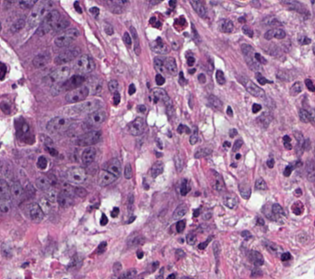nucleus: (237, 76, 265, 98), (53, 74, 85, 93), (54, 28, 79, 47), (241, 44, 259, 70), (44, 65, 70, 83), (54, 47, 80, 64), (71, 99, 102, 113), (46, 116, 73, 132), (65, 85, 88, 103), (76, 130, 101, 146), (73, 55, 94, 72), (85, 109, 105, 126), (66, 166, 86, 183), (127, 117, 145, 135), (26, 202, 43, 221), (35, 175, 56, 190), (32, 51, 50, 67), (86, 76, 102, 94), (152, 37, 169, 53), (153, 88, 169, 105), (130, 27, 140, 54), (81, 146, 96, 164), (98, 170, 116, 185), (57, 189, 72, 207), (106, 158, 120, 177), (212, 171, 224, 191), (264, 28, 285, 39), (207, 95, 222, 110), (248, 250, 263, 265), (163, 57, 176, 74), (238, 180, 250, 198), (223, 193, 237, 208), (173, 204, 187, 219), (127, 234, 144, 246), (299, 109, 313, 123), (255, 72, 271, 84), (151, 161, 163, 177), (271, 203, 283, 219), (154, 57, 166, 72), (294, 131, 303, 151), (45, 187, 57, 202), (39, 197, 50, 213), (264, 242, 280, 253), (194, 147, 211, 157), (198, 236, 211, 249), (120, 268, 136, 278), (69, 255, 81, 268), (174, 154, 183, 171), (180, 179, 189, 195), (290, 82, 301, 95), (40, 134, 53, 145), (36, 156, 47, 169), (73, 186, 86, 197), (292, 201, 303, 214), (254, 52, 266, 63), (216, 70, 225, 84), (282, 135, 291, 149), (255, 178, 266, 189), (123, 32, 131, 47), (232, 139, 242, 151), (124, 163, 132, 178), (307, 161, 313, 180), (189, 130, 197, 144), (186, 233, 196, 244), (305, 79, 314, 91), (108, 80, 117, 92), (45, 146, 57, 155), (176, 220, 185, 232), (97, 241, 106, 253), (213, 241, 219, 259), (155, 74, 164, 85), (283, 165, 292, 176), (252, 103, 261, 112), (175, 249, 184, 258), (302, 139, 310, 149), (280, 252, 290, 260), (113, 262, 121, 272), (179, 72, 185, 85), (113, 91, 119, 104), (100, 214, 107, 225), (128, 194, 133, 209), (241, 230, 250, 238), (187, 55, 194, 65), (198, 73, 205, 83), (128, 84, 135, 94), (111, 207, 118, 217), (203, 211, 211, 219), (137, 105, 146, 112), (229, 128, 236, 137), (266, 158, 273, 167), (300, 37, 310, 43), (193, 208, 200, 216), (227, 106, 232, 115), (177, 125, 183, 132), (184, 126, 190, 133), (295, 188, 301, 195), (137, 251, 143, 258), (152, 262, 157, 270), (257, 218, 263, 224), (223, 142, 229, 147), (235, 154, 240, 159), (168, 274, 175, 277), (189, 69, 194, 73)
